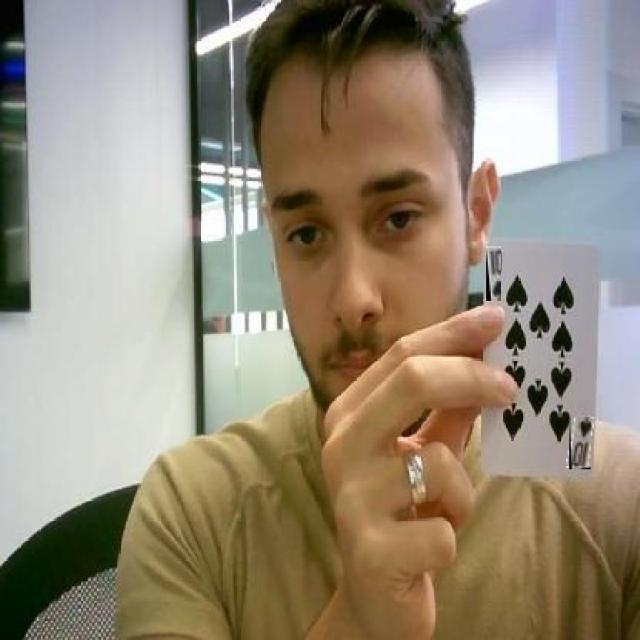10S: (569, 416, 591, 470), (486, 246, 500, 300)
